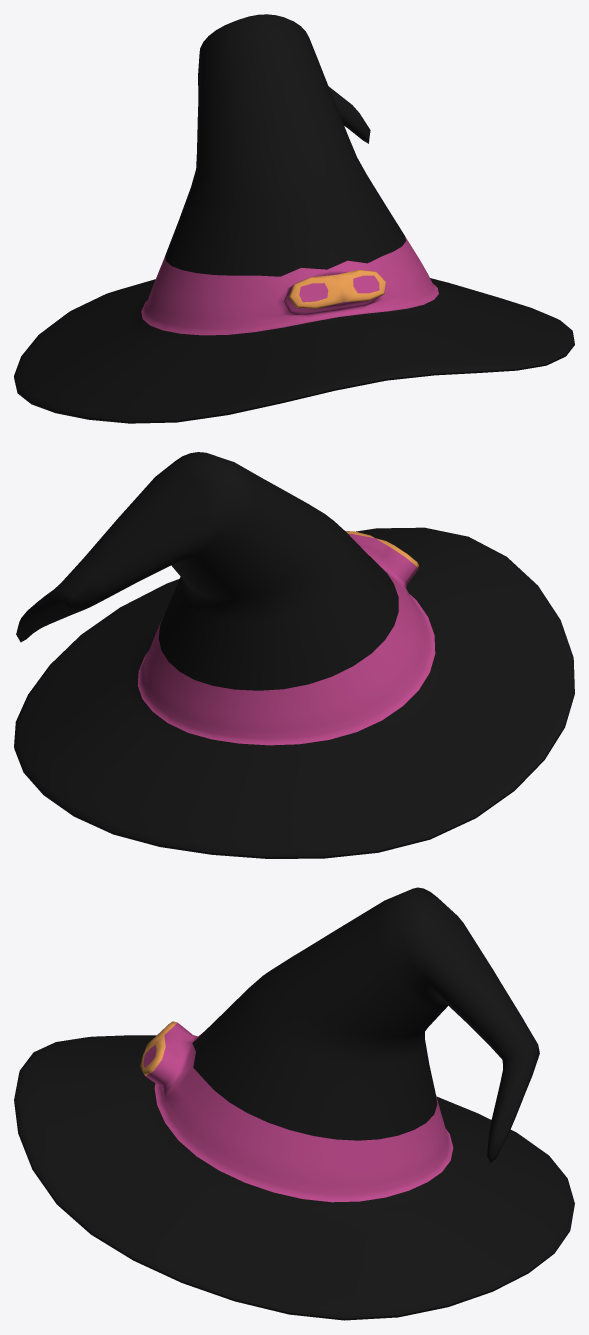
3 renders of one model, top to bottom at view 1: azimuth 30°, elevation 25°; view 2: azimuth 150°, elevation 25°; view 3: azimuth 270°, elevation 25°, orthographic.
Parts seen in each view (by area): view 1: halloween_hat; view 2: halloween_hat; view 3: halloween_hat.
Part boxes in pixels (left/top/right/bottom): halloween_hat: left=14, top=14, right=574, bottom=423; halloween_hat: left=14, top=452, right=574, bottom=858; halloween_hat: left=14, top=887, right=574, bottom=1320.
Size of the model in its own units: 3.02 by 1.92 by 2.97.
